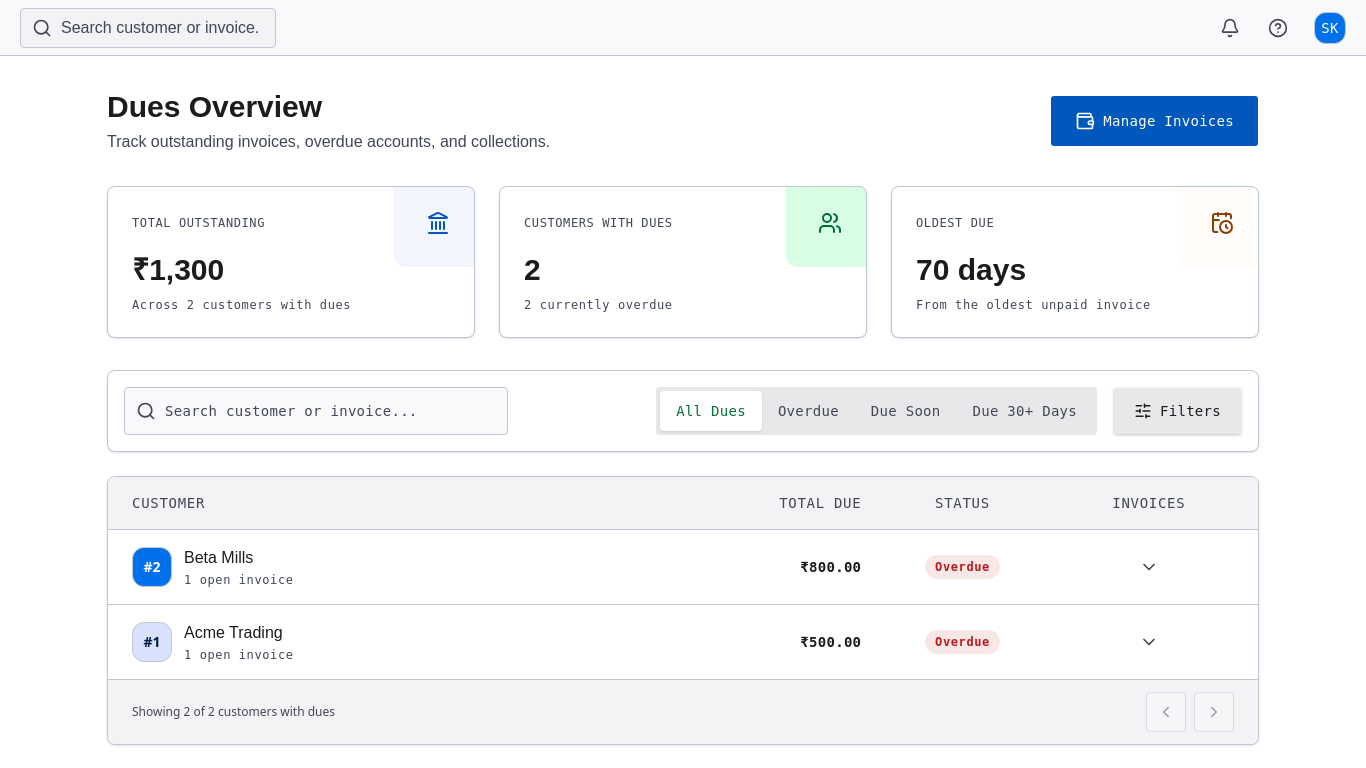
Test: Dues filter sheet — quick views › applies and toggles the overdue quick view
Click the button "Filters". click: (1178, 411)
box: [1113,387,1242,435]
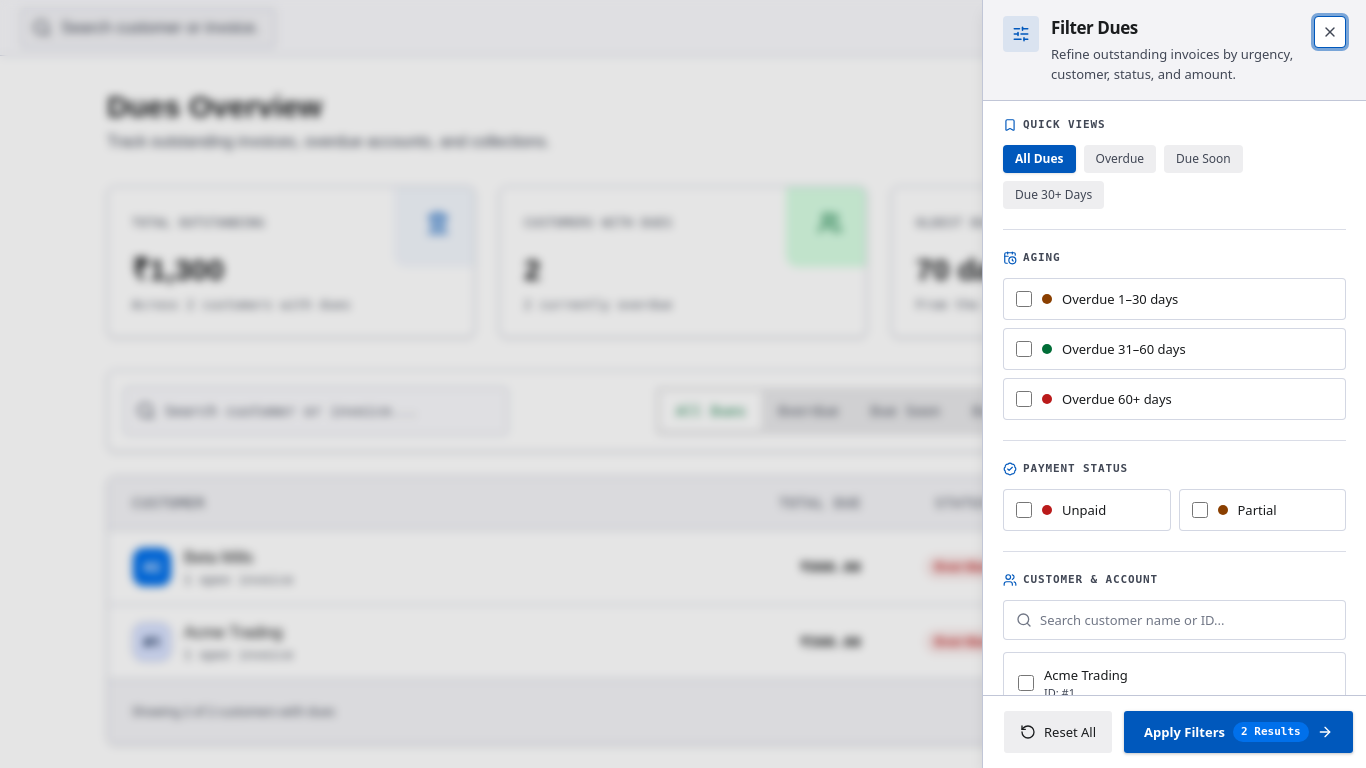
Now the heading "Filter Dues" is shown, box [1051,16,1138,40]
Click the button "Overdue". click: (1120, 159)
box: [1084,145,1156,173]
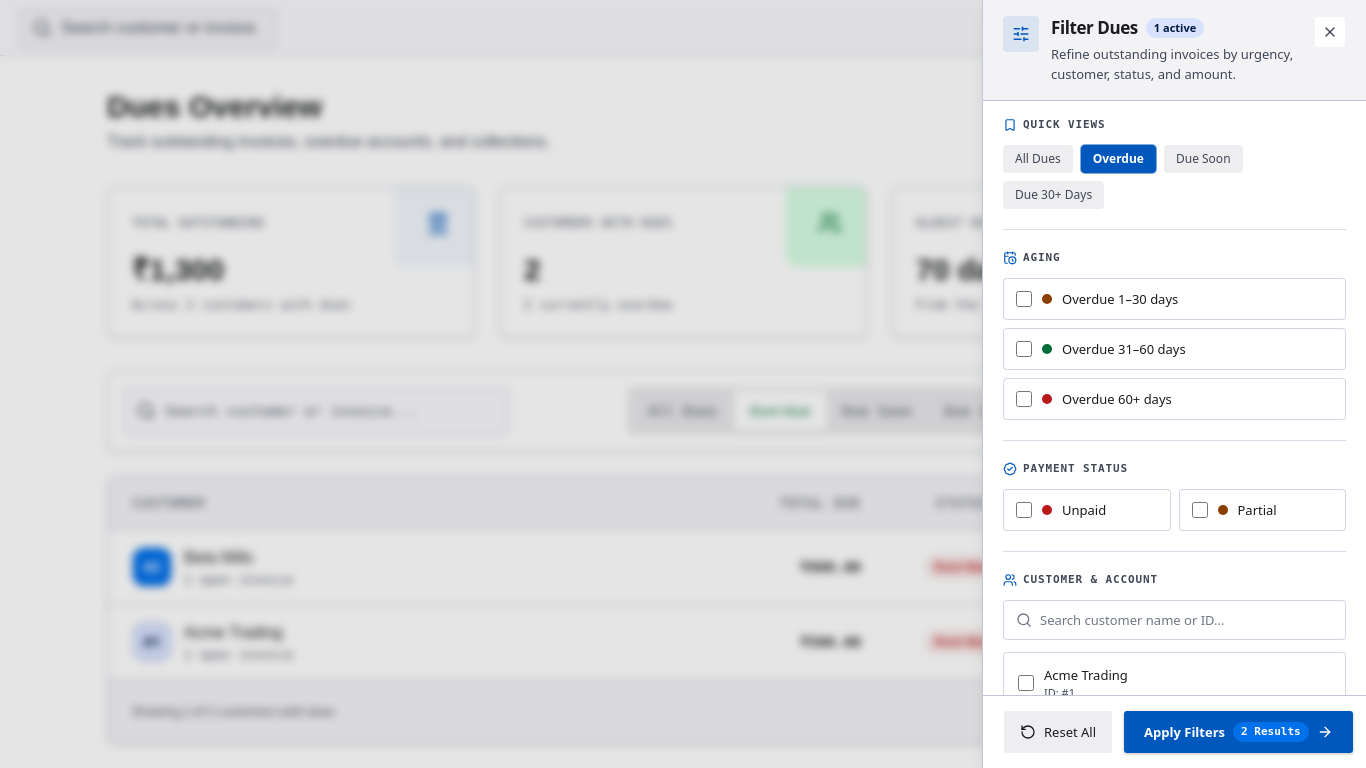
Now the text "1 active" is shown, box [1146,18,1204,38]
Click the button "Overdue". click: (1118, 159)
box: [1081,145,1156,173]
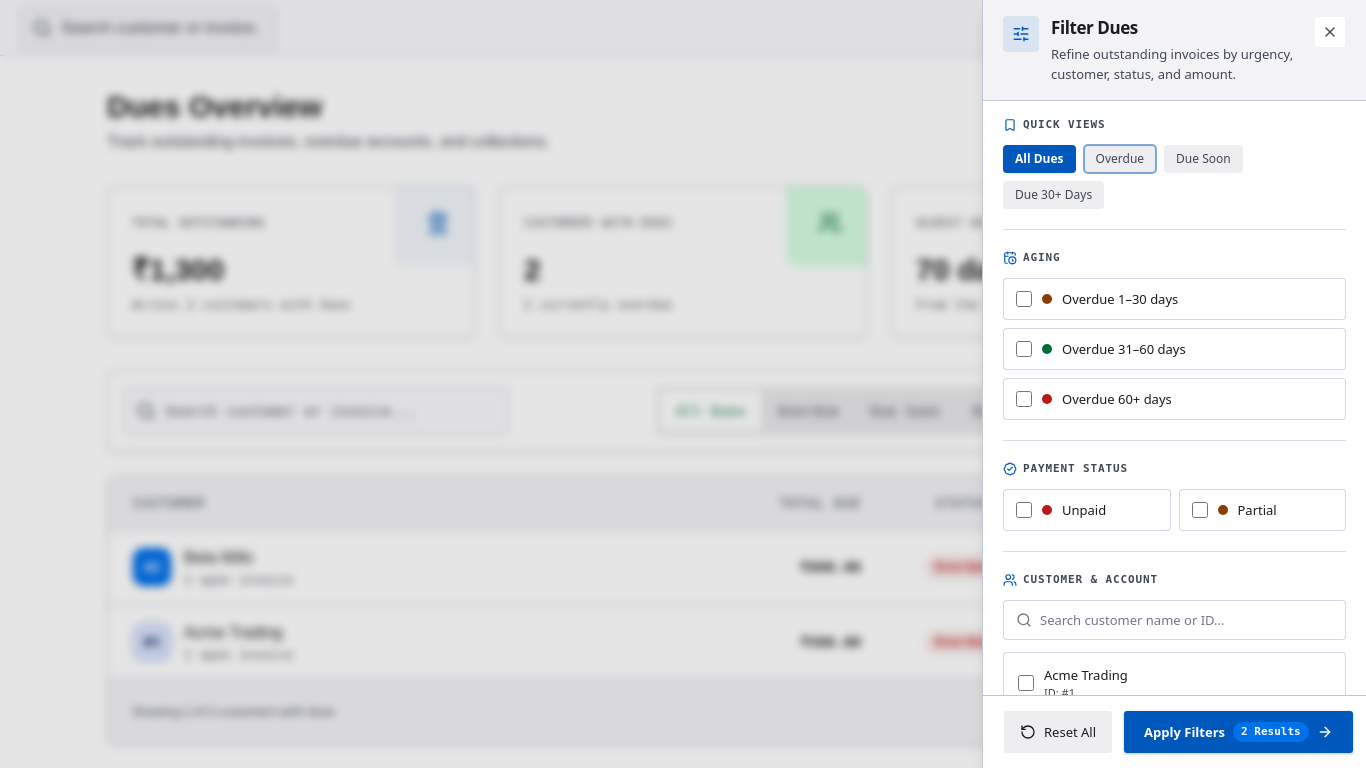
Now the text "1 active" is gone
